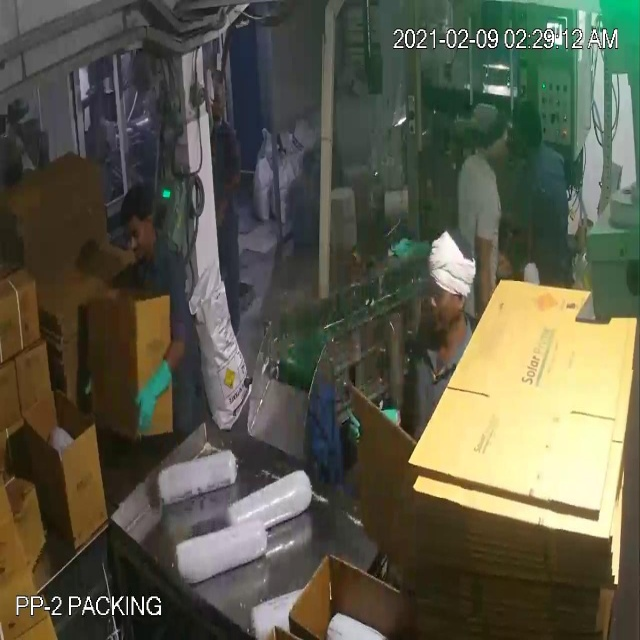Guantes: (125, 346, 183, 439)
Sin_guantes: (205, 163, 239, 232)
